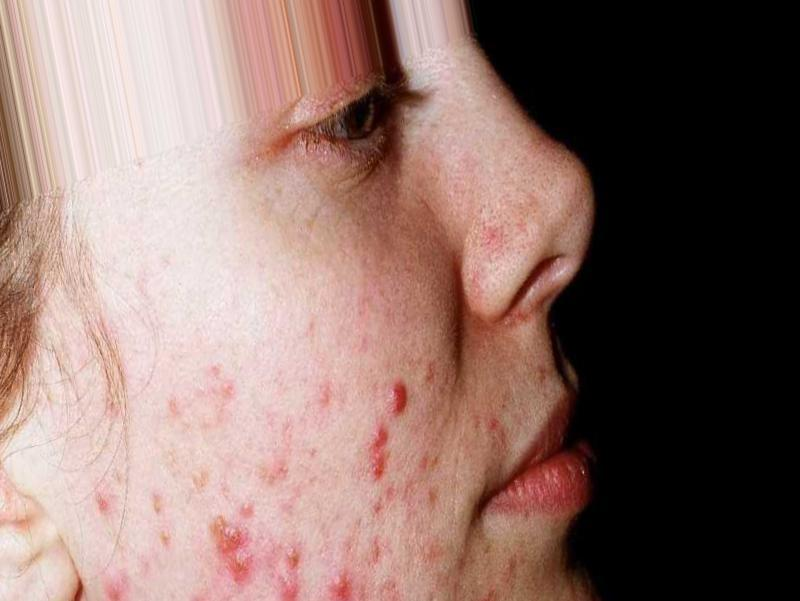Acne: (173, 485, 371, 593), (340, 354, 340, 354)
